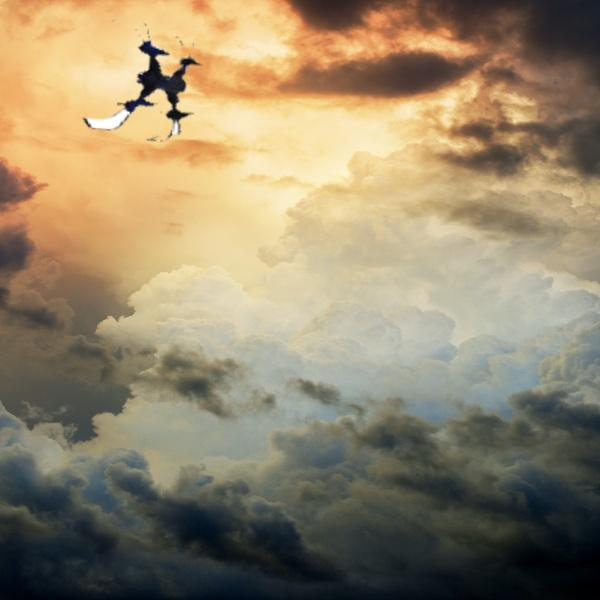drone: (78, 12, 214, 148)
